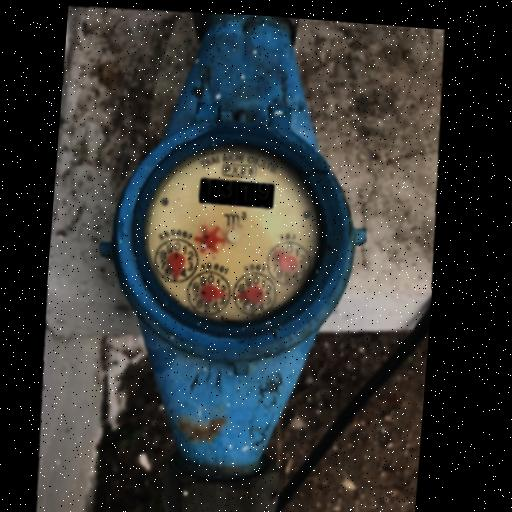1: (200, 179, 220, 204), (237, 182, 255, 206)
3: (219, 180, 237, 205)
9: (255, 184, 275, 208)
border_water_meter_number: (199, 178, 275, 209)
